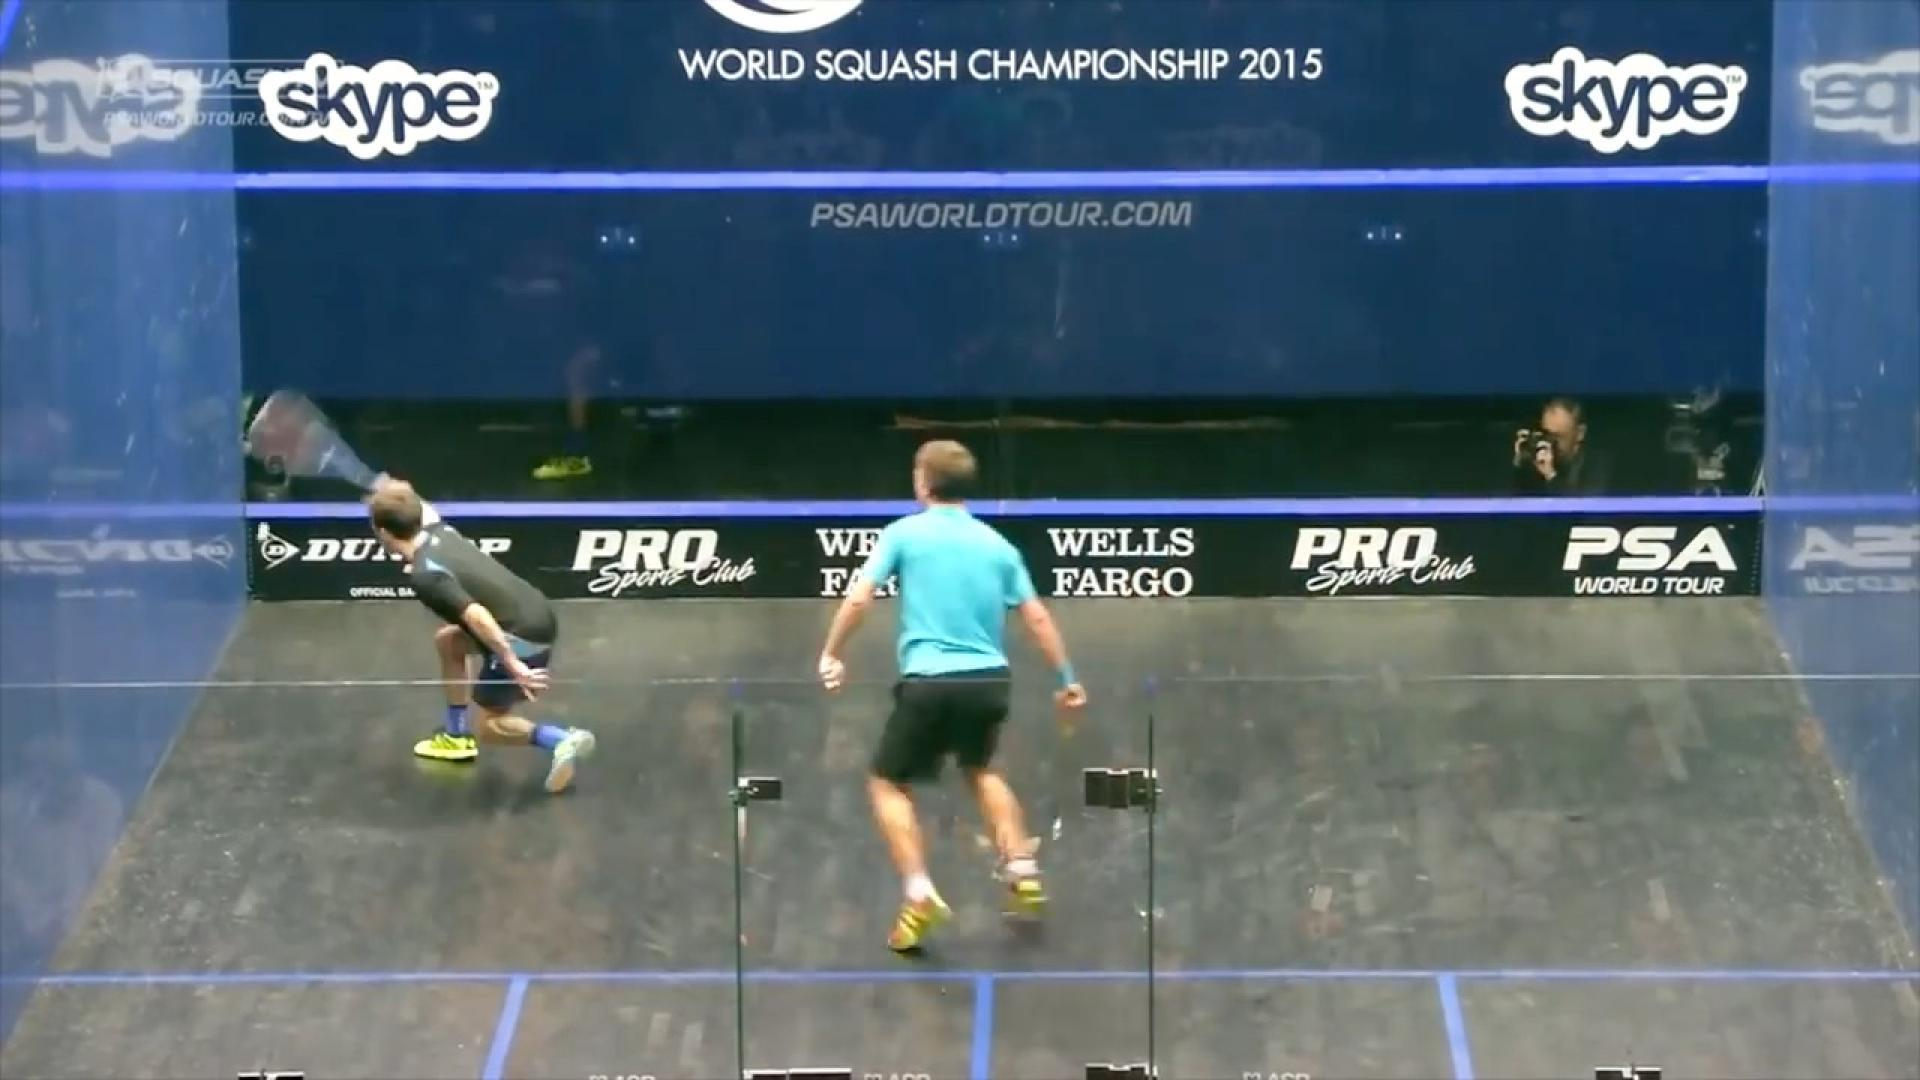Squash-Ball: (242, 500, 285, 563)
